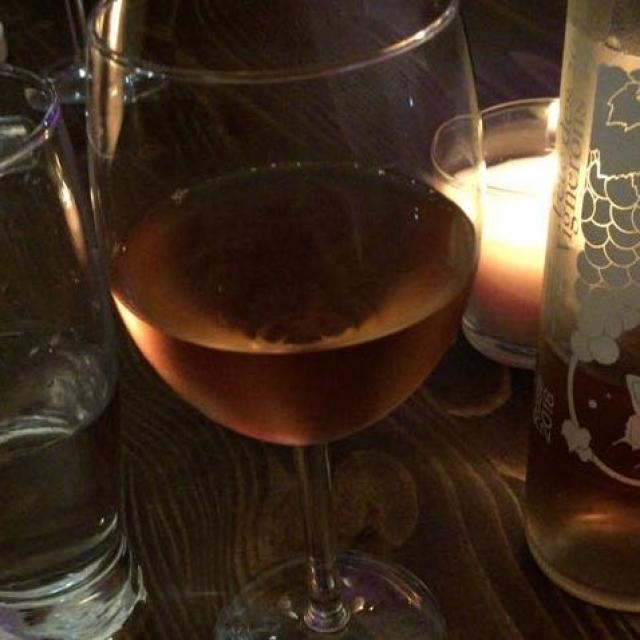wine-rose: (94, 141, 484, 453)
